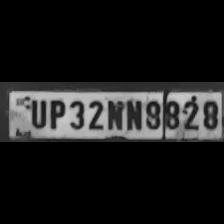2: (180, 97, 198, 131), (86, 97, 104, 130)
3: (66, 97, 84, 129)
8: (160, 98, 180, 130), (143, 97, 161, 130), (200, 98, 218, 130)
N: (105, 97, 123, 131), (124, 97, 142, 131)
P: (46, 97, 66, 129)
U: (25, 97, 45, 128)
